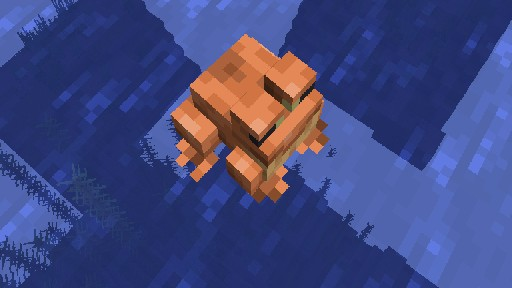frog: (169, 33, 329, 203)
